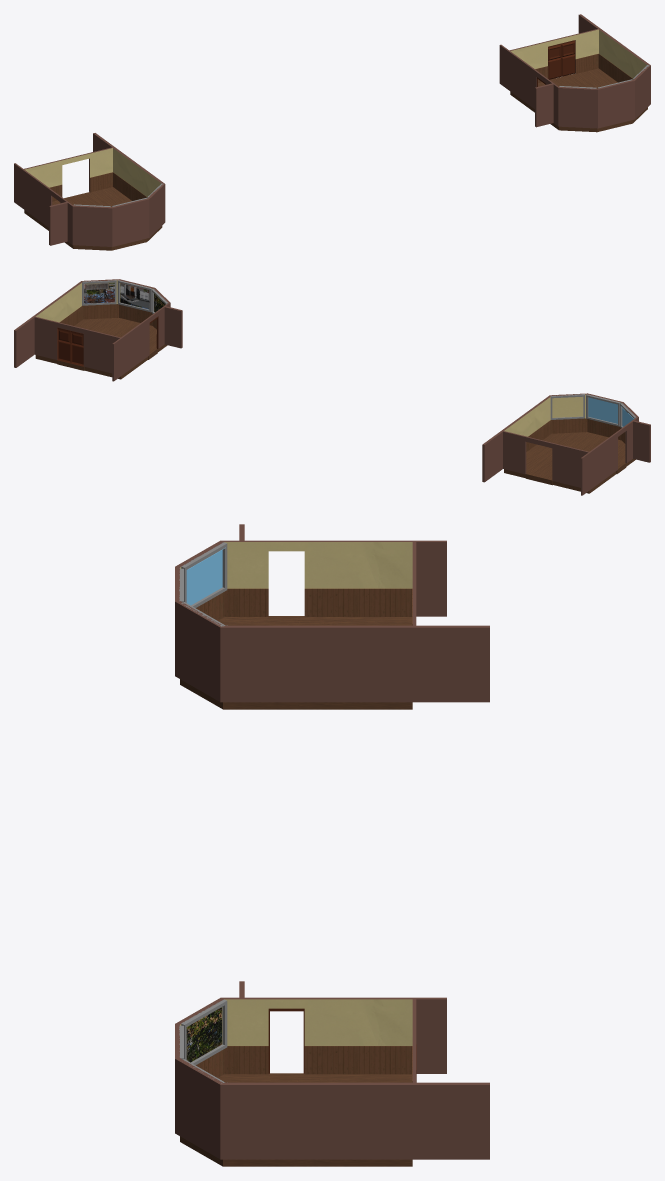
File: Living Room 1.FBX
3 views of the same model, one above another, from view 1: azimuth 30°, elevation 25°; view 2: azimuth 150°, elevation 25°; view 3: azimuth 270°, elevation 25° (orthographic). The views are drawn at different scales.
Parts seen in each view (by area): view 1: Layer:Interior Wall, Layer:Interior Wall001, walls 002, walls 1, Layer:floor, Layer:floor001, Object015, Object006, Object011; view 2: Layer:Interior Wall001, Layer:Interior Wall, Layer:floor001, Layer:floor, walls 002, Object011, Object006, walls 1, Object015, Object009, Object008, Object004 (+2 smaller); view 3: Layer:Interior Wall, Layer:Interior Wall001, walls 1, walls 002, Object006, Object011, Layer:floor, Layer:floor001, Object008, Object003, Object009, Object004.
Part boxes in pixels (bbox=[...]): Layer:Interior Wall: bbox=[499, 14, 650, 128]; Layer:Interior Wall001: bbox=[14, 133, 165, 246]; walls 002: bbox=[25, 148, 160, 196]; walls 1: bbox=[510, 29, 646, 78]; Layer:floor: bbox=[510, 68, 647, 132]; Layer:floor001: bbox=[24, 187, 162, 250]; Object015: bbox=[548, 40, 575, 79]; Object006: bbox=[535, 53, 632, 82]; Object011: bbox=[49, 172, 147, 201]; Layer:Interior Wall001: bbox=[482, 393, 650, 495]; Layer:Interior Wall: bbox=[14, 279, 182, 381]; Layer:floor001: bbox=[504, 432, 635, 493]; Layer:floor: bbox=[35, 317, 167, 379]; walls 002: bbox=[504, 394, 621, 436]; Object011: bbox=[526, 418, 625, 451]; Object006: bbox=[59, 304, 156, 329]; walls 1: bbox=[36, 280, 152, 322]; Object015: bbox=[57, 327, 83, 366]; Object009: bbox=[550, 394, 636, 427]; Object008: bbox=[588, 397, 633, 426]; Object004: bbox=[82, 280, 167, 313]; Layer:Interior Wall: bbox=[175, 981, 489, 1159]; Layer:Interior Wall001: bbox=[175, 524, 489, 702]; walls 1: bbox=[180, 999, 412, 1052]; walls 002: bbox=[180, 542, 412, 588]; Object006: bbox=[196, 1046, 412, 1082]; Object011: bbox=[196, 588, 412, 625]; Layer:floor: bbox=[180, 1073, 412, 1166]; Layer:floor001: bbox=[180, 616, 412, 709]; Object008: bbox=[186, 547, 225, 605]; Object003: bbox=[186, 1007, 221, 1062]; Object009: bbox=[179, 542, 227, 626]; Object004: bbox=[179, 999, 227, 1083].
Bounding box in the file's own units: 1545 × 108 × 367.
10 materials, 6 textured.
